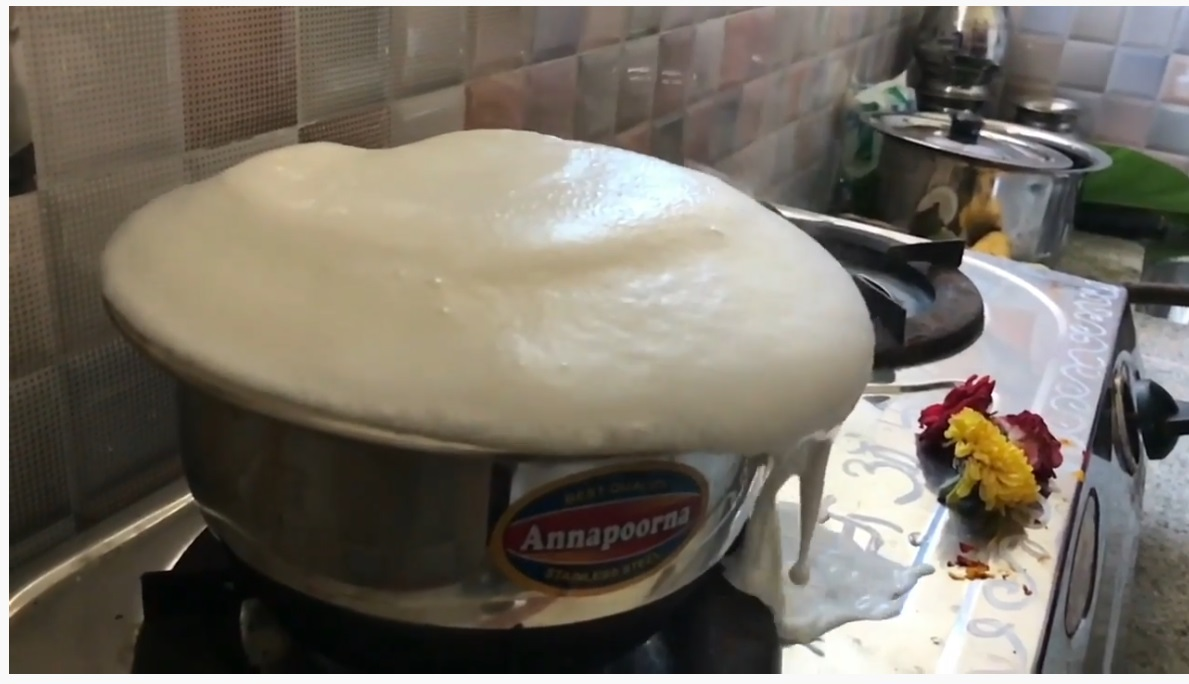Boiled: (96, 121, 884, 640)
